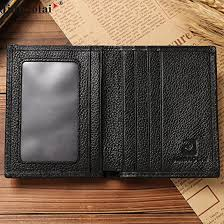monedero: (5, 43, 220, 179)
